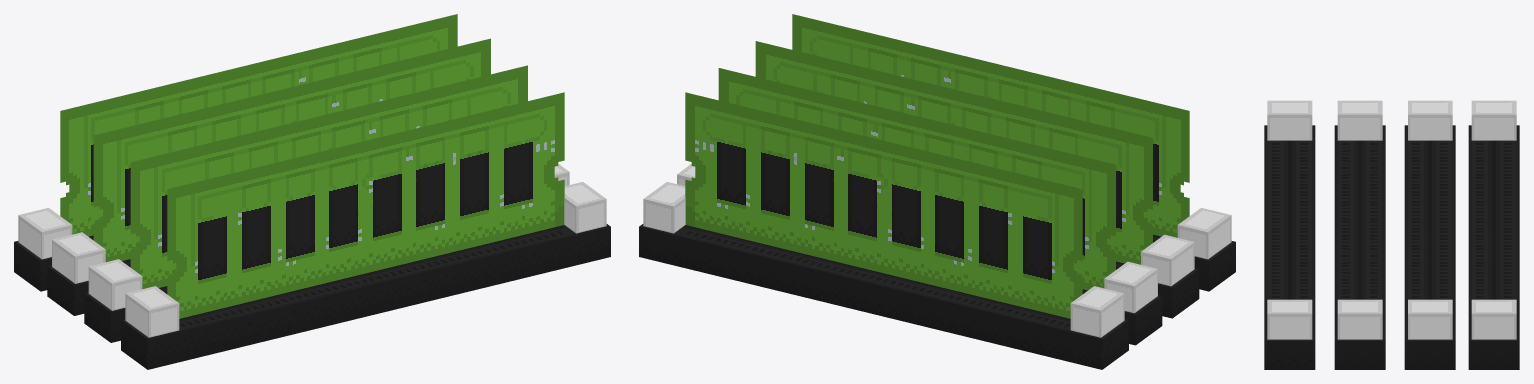
The model's file is memory.83673af4.glb.
The picture shows the model from 3 angles, left to right: view 1: azimuth 30°, elevation 25°; view 2: azimuth 150°, elevation 25°; view 3: azimuth 270°, elevation 25°; orthographic projection. The views are drawn at different scales.
Parts seen in each view (by area): view 1: Cube.002, Cube, Cube.001, Cube.003; view 2: Cube.003, Cube, Cube.002, Cube.001; view 3: Cube, Cube.002, Cube.003, Cube.001.
Part boxes in pixels (x1,y1,x2,y2): Cube.002: (121, 92, 610, 369); Cube: (84, 65, 569, 342); Cube.001: (47, 38, 490, 315); Cube.003: (14, 14, 457, 291); Cube.003: (639, 92, 1128, 369); Cube: (755, 41, 1199, 318); Cube.002: (792, 14, 1235, 291); Cube.001: (677, 68, 1162, 345); Cube: (1334, 100, 1385, 369); Cube.002: (1264, 100, 1315, 369); Cube.003: (1468, 100, 1519, 369); Cube.001: (1404, 100, 1455, 369).
Size of the model in its own units: 8 by 2.69 by 4.
Materials: 4 (4 with a texture image).
